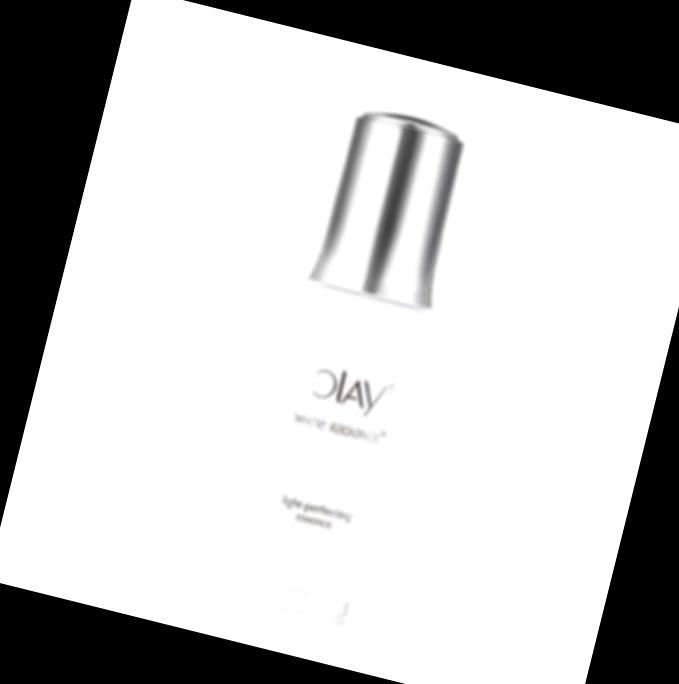cosmetic: (228, 99, 477, 621)
